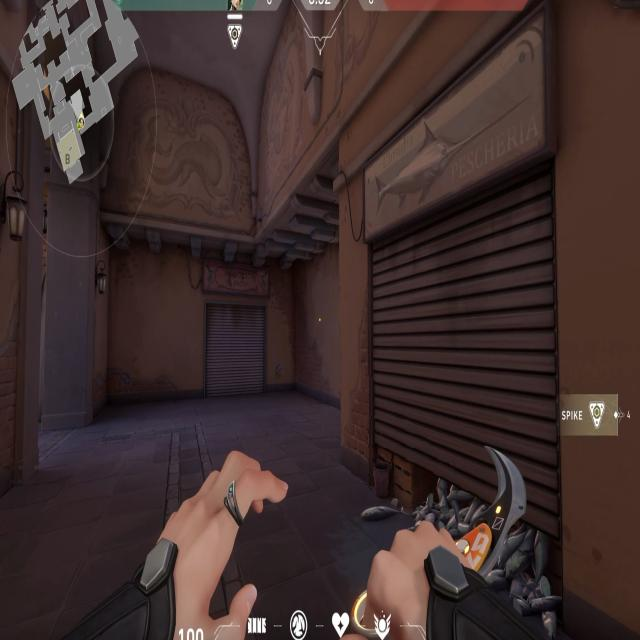B_Main_Corner: (330, 98, 590, 536)
